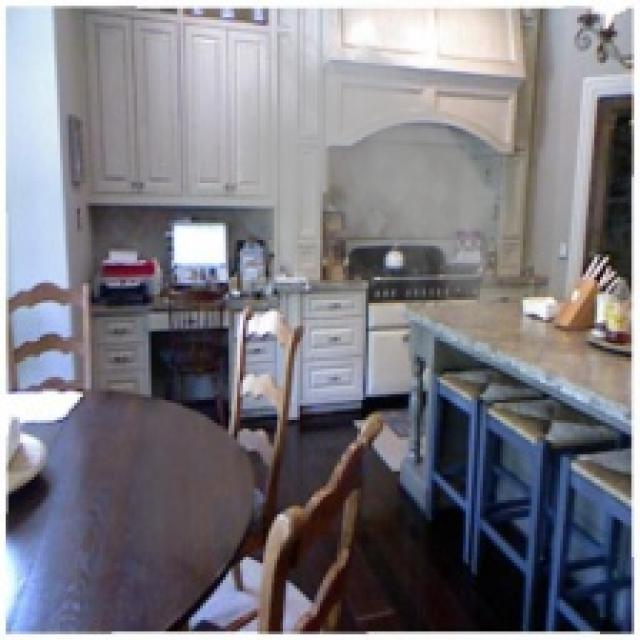Smoke: (202, 14, 548, 409)
